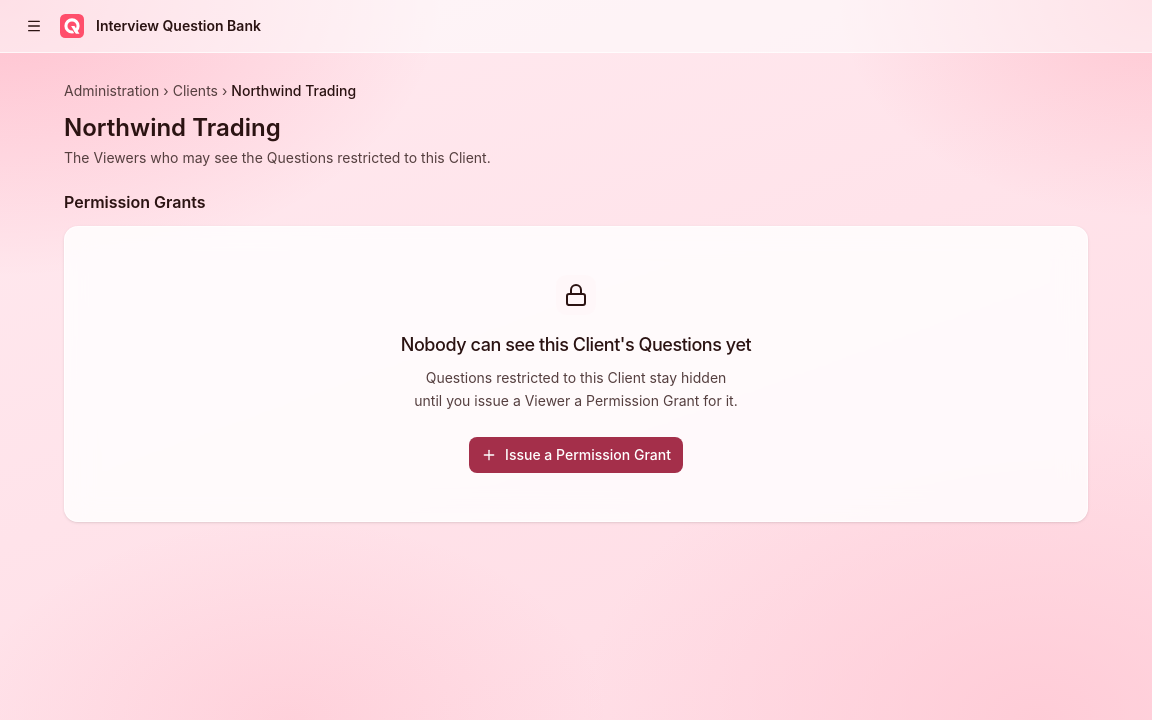
Test case: issuing a Permission Grant from the administration console › is offered by an empty list in place of the page's own button
Click the button "Issue a Permission Grant" at (576, 454), box 469,436 -> 683,472
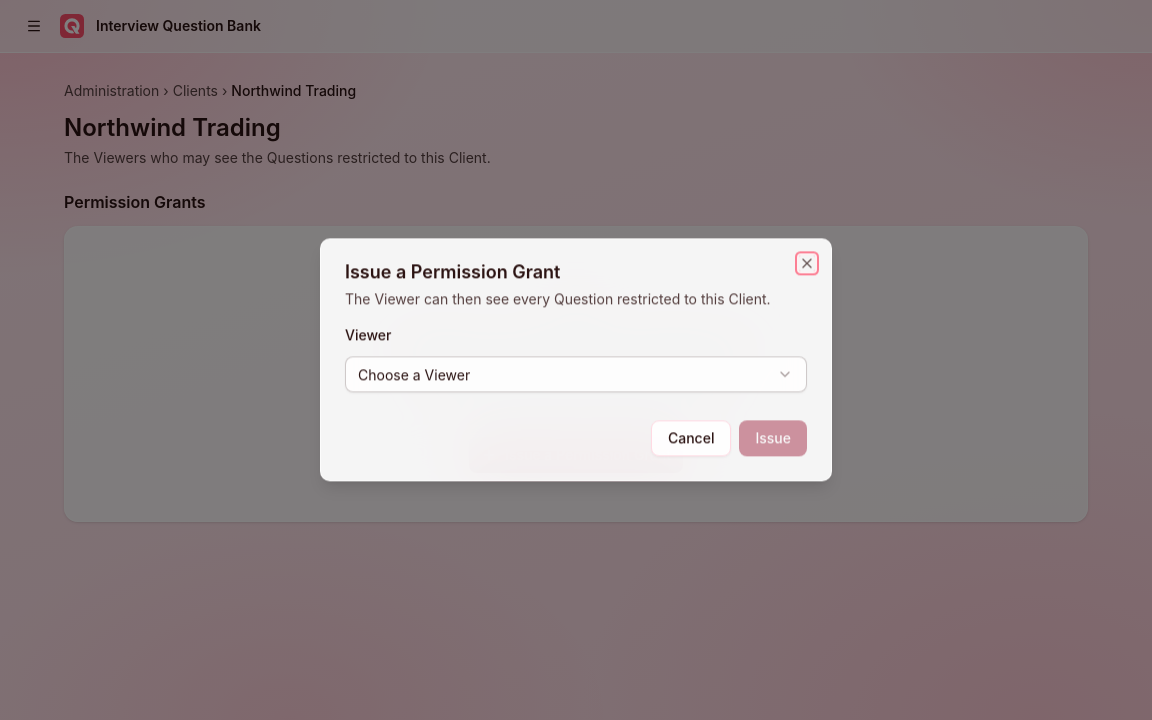
Check: the dialog "Issue a Permission Grant" is shown, box 320,238 -> 832,482
